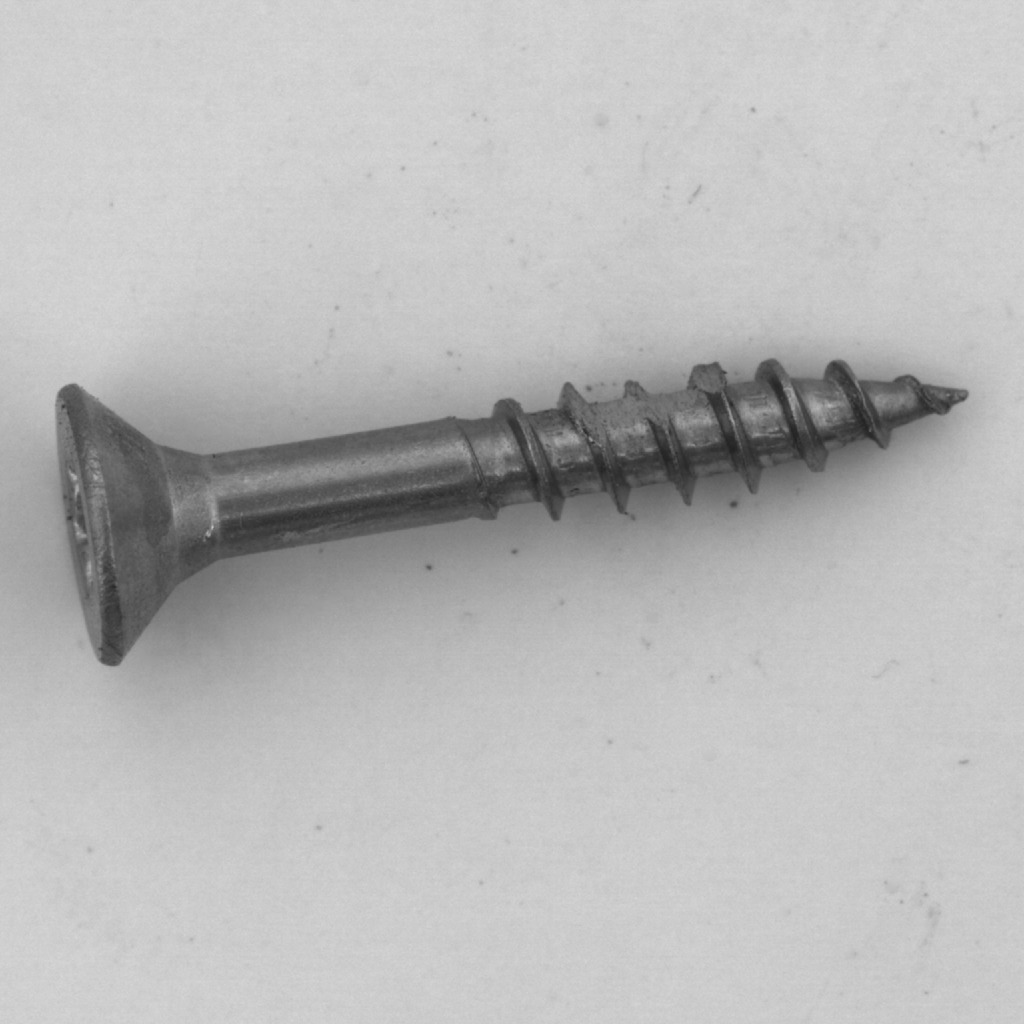thread_side: (515, 288, 768, 469)
